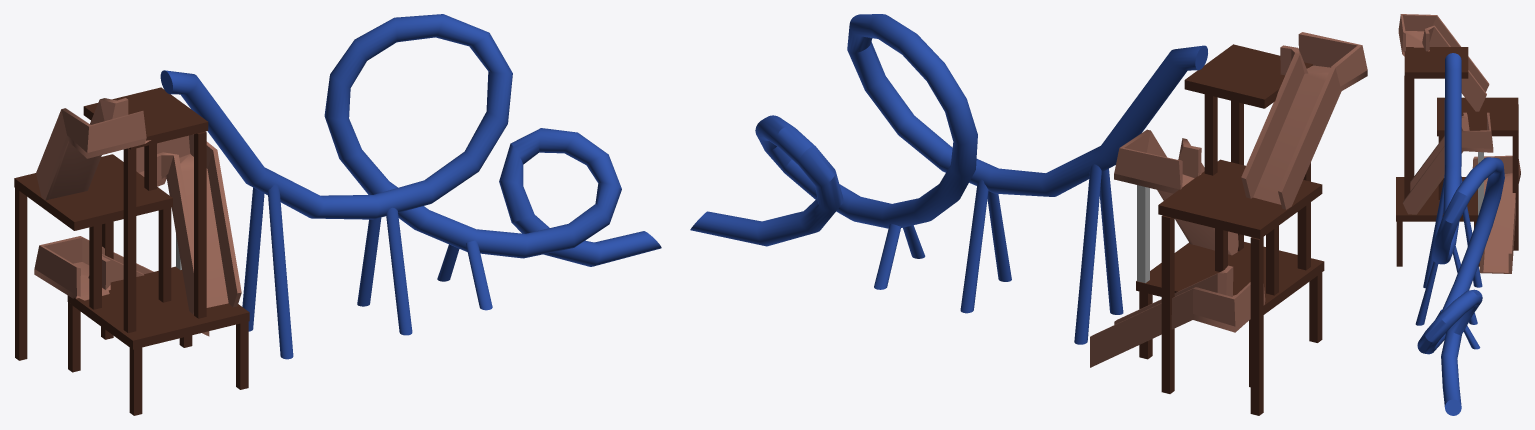
The model's file is BrainScrambler_01.fbx.
3 views of the same model, side by side, from view 1: azimuth 30°, elevation 25°; view 2: azimuth 150°, elevation 25°; view 3: azimuth 270°, elevation 25° (orthographic). The views are drawn at different scales.
Visible parts, largest first — view 1: Platform1; view 2: Platform1; view 3: Platform1.
Boxes of the visible parts, box(x1,y1,x2,y2) form: Platform1: box(14, 14, 661, 415); Platform1: box(690, 14, 1367, 415); Platform1: box(1396, 14, 1520, 415).
Size of the model in its own units: 20.82 by 9.7 by 5.44.
